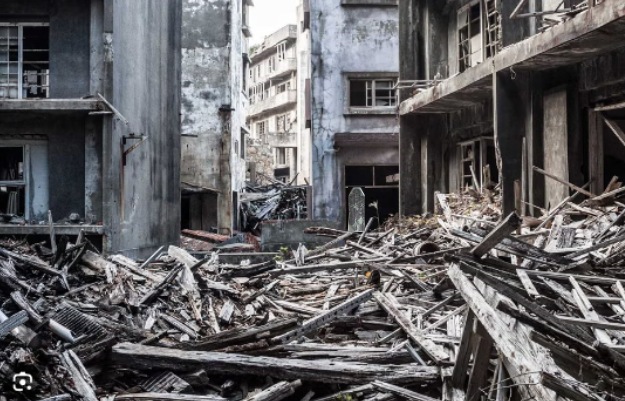HVT1: (348, 187, 365, 232)
